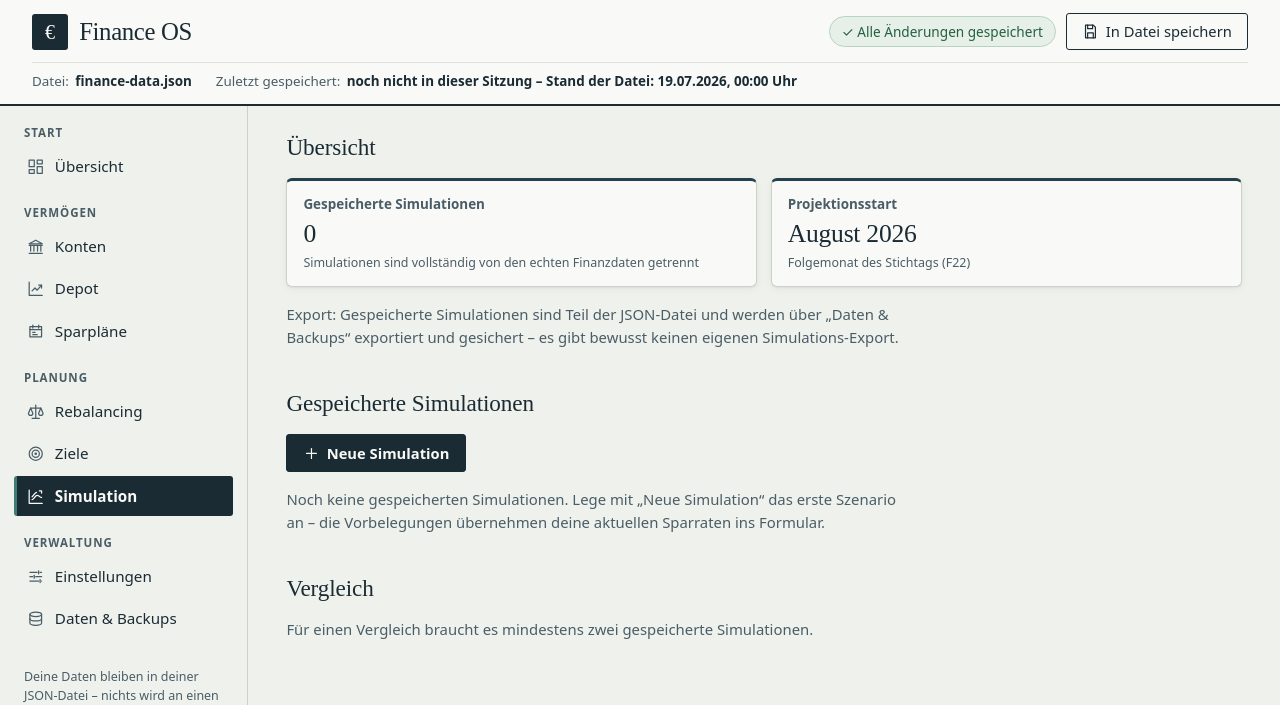
Scenario: SimulatorPage – Anlegen mit Vorbelegungen (Auflage 2.4, G8/G9) › geglättete Vorbelegung: zeilenweise 33,50/6,50/60/83,33/41,67/25 – KEINE Sammelzeile „225“
(page scrolled)
Click the button "Neue Simulation": (376, 453) [286,434,466,472]
(page scrolled)
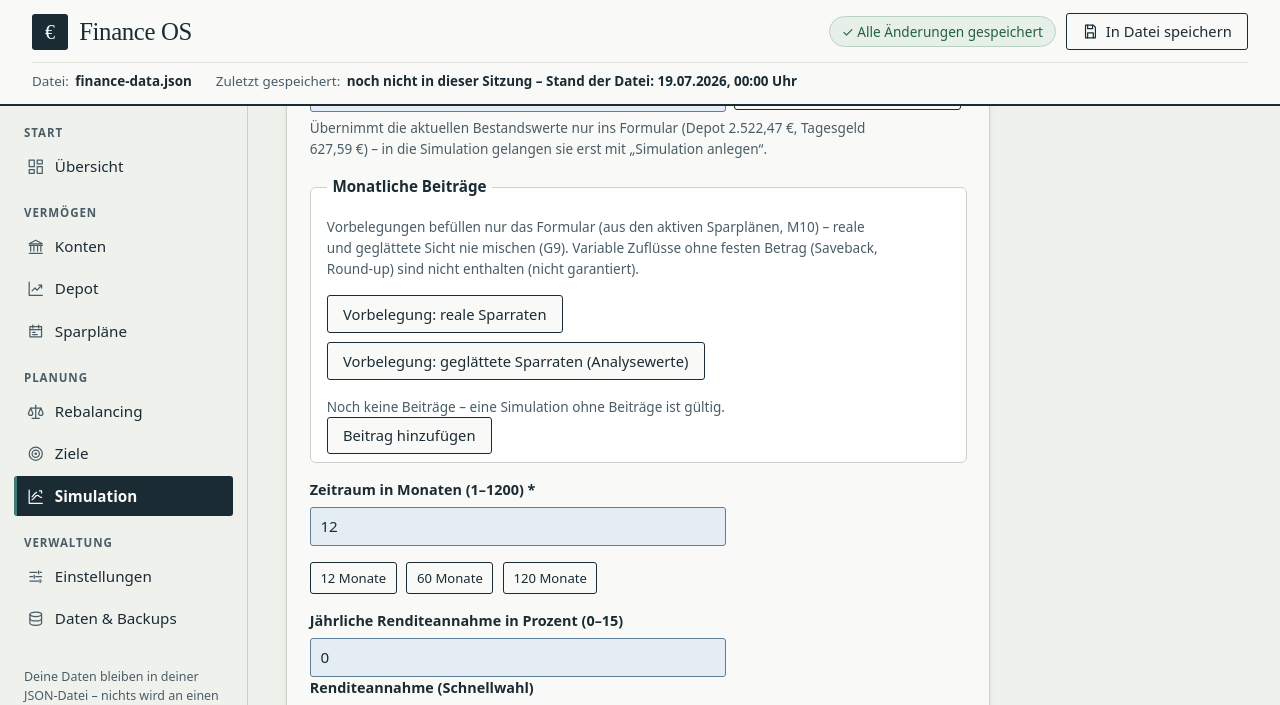
Click the button "Vorbelegung: geglättete Sparraten (Analysewerte)": (516, 361) [327,342,705,380]
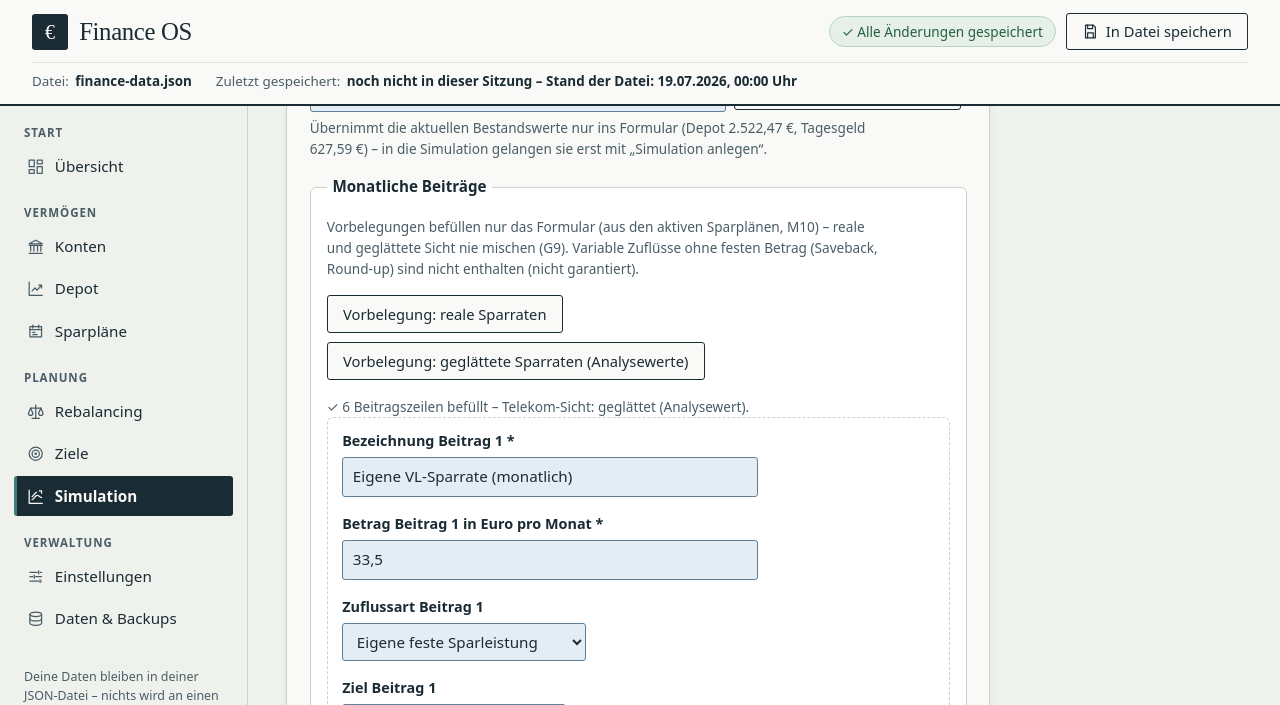
Expected: the text "✓ 6 Beitragszeilen befüllt – Telekom-Sicht: geglättet (Analysewert)." is shown, [327,397,749,416]
